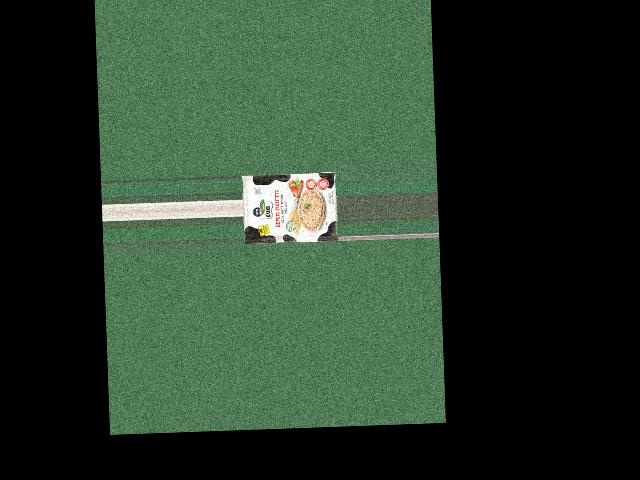cheese: (248, 160, 334, 245)
